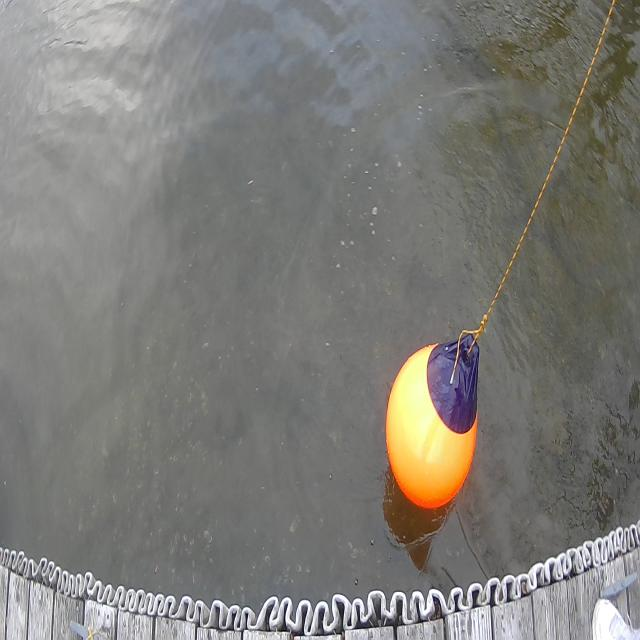Buoy: (376, 315, 488, 521)
